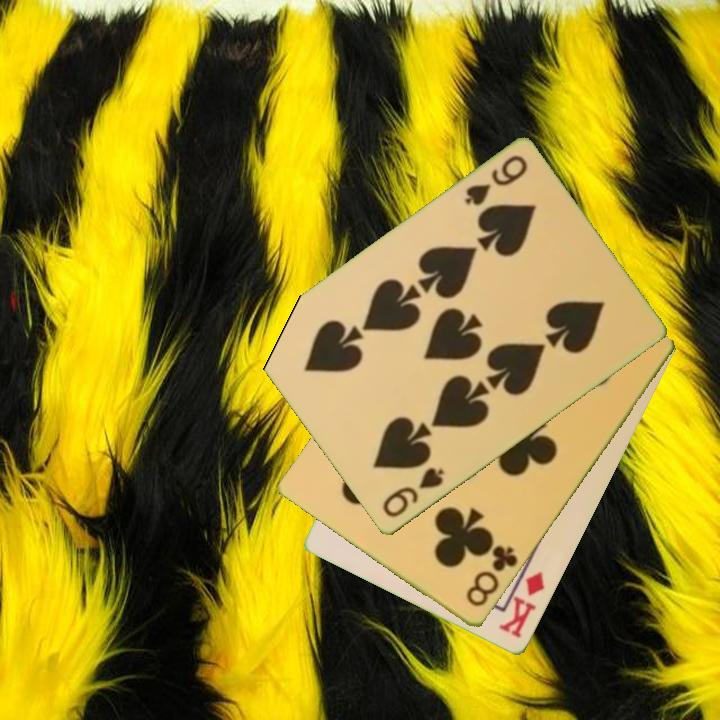8c: (462, 542, 521, 610)
9s: (461, 152, 531, 210), (379, 464, 448, 521)
Kd: (495, 568, 548, 642)
